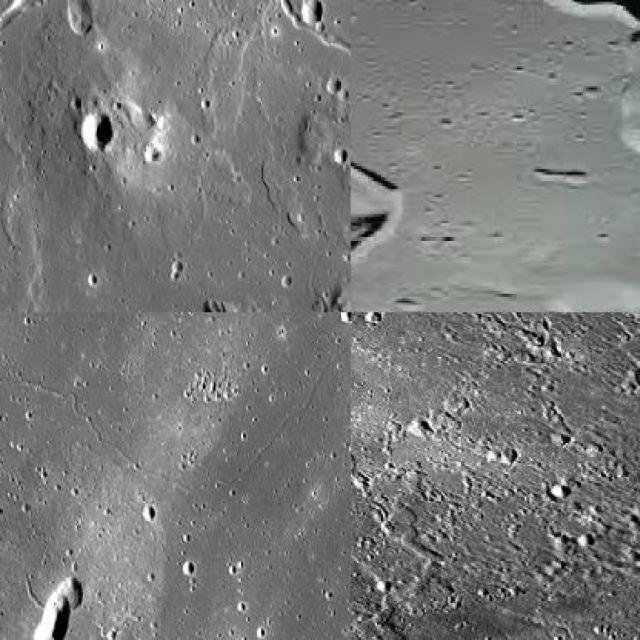rille: (0, 0, 349, 291), (351, 0, 638, 311), (0, 346, 345, 586), (351, 312, 466, 497)
